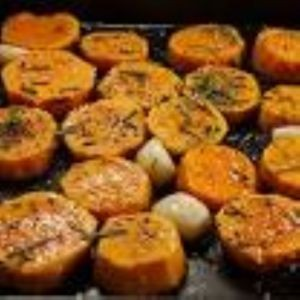sweet potato_brain food: (41, 65, 270, 239)
